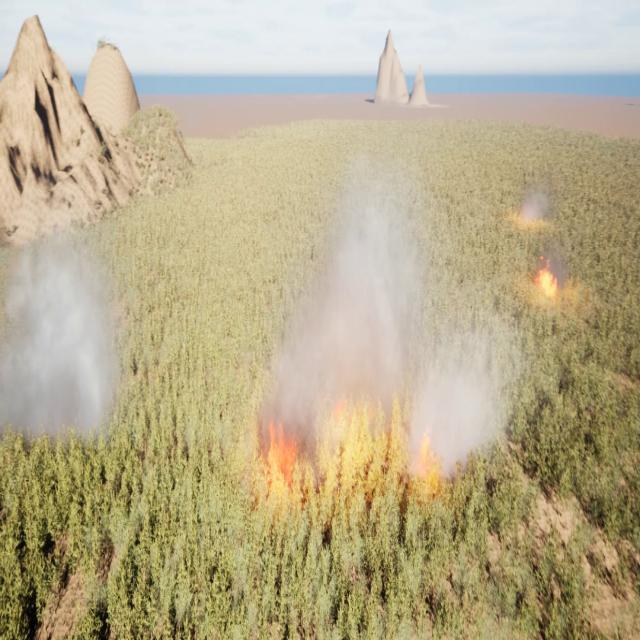fire: (326, 396, 387, 458), (260, 416, 300, 478), (414, 431, 443, 484), (533, 264, 560, 295)
smoke: (256, 142, 525, 462), (0, 192, 119, 448), (519, 190, 550, 225), (547, 253, 569, 286)
